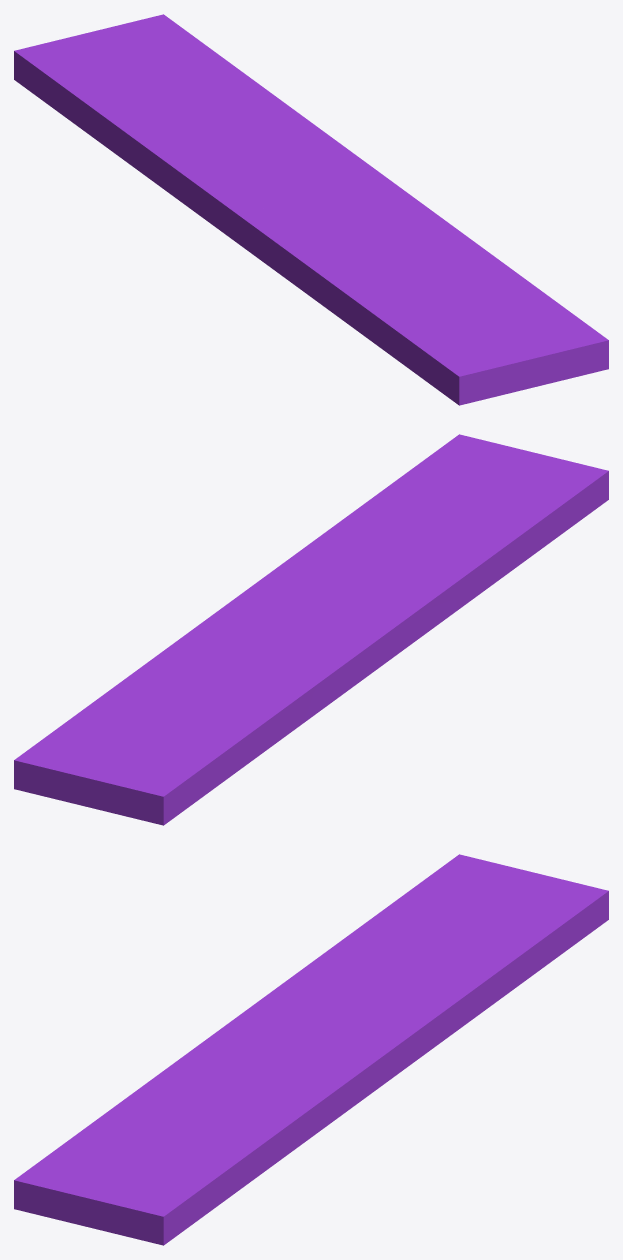
File: StairsStep_89_chunks.fbx
The picture shows the model from 3 angles, top to bottom: view 1: azimuth 30°, elevation 25°; view 2: azimuth 150°, elevation 25°; view 3: azimuth 330°, elevation 25°; orthographic projection.
Visible parts, largest first — view 1: StairsStep_89_2, StairsStep_89_1, StairsStep_89_0, StairsStep_89_3; view 2: StairsStep_89_1, StairsStep_89_2, StairsStep_89_0, StairsStep_89_3; view 3: StairsStep_89_2, StairsStep_89_1, StairsStep_89_3, StairsStep_89_0.
Boxes of the visible parts, <box> form: StairsStep_89_2: <box>305,177,608,405</box>; StairsStep_89_1: <box>14,14,386,192</box>; StairsStep_89_0: <box>154,163,307,294</box>; StairsStep_89_3: <box>260,187,329,279</box>; StairsStep_89_1: <box>14,597,317,825</box>; StairsStep_89_2: <box>237,434,608,610</box>; StairsStep_89_0: <box>304,599,457,722</box>; StairsStep_89_3: <box>296,570,473,635</box>; StairsStep_89_2: <box>14,1040,388,1245</box>; StairsStep_89_1: <box>305,854,608,1080</box>; StairsStep_89_3: <box>150,1015,326,1080</box>; StairsStep_89_0: <box>213,967,305,1034</box>.
Size of the model in its own units: 157 by 28.98 by 810.
